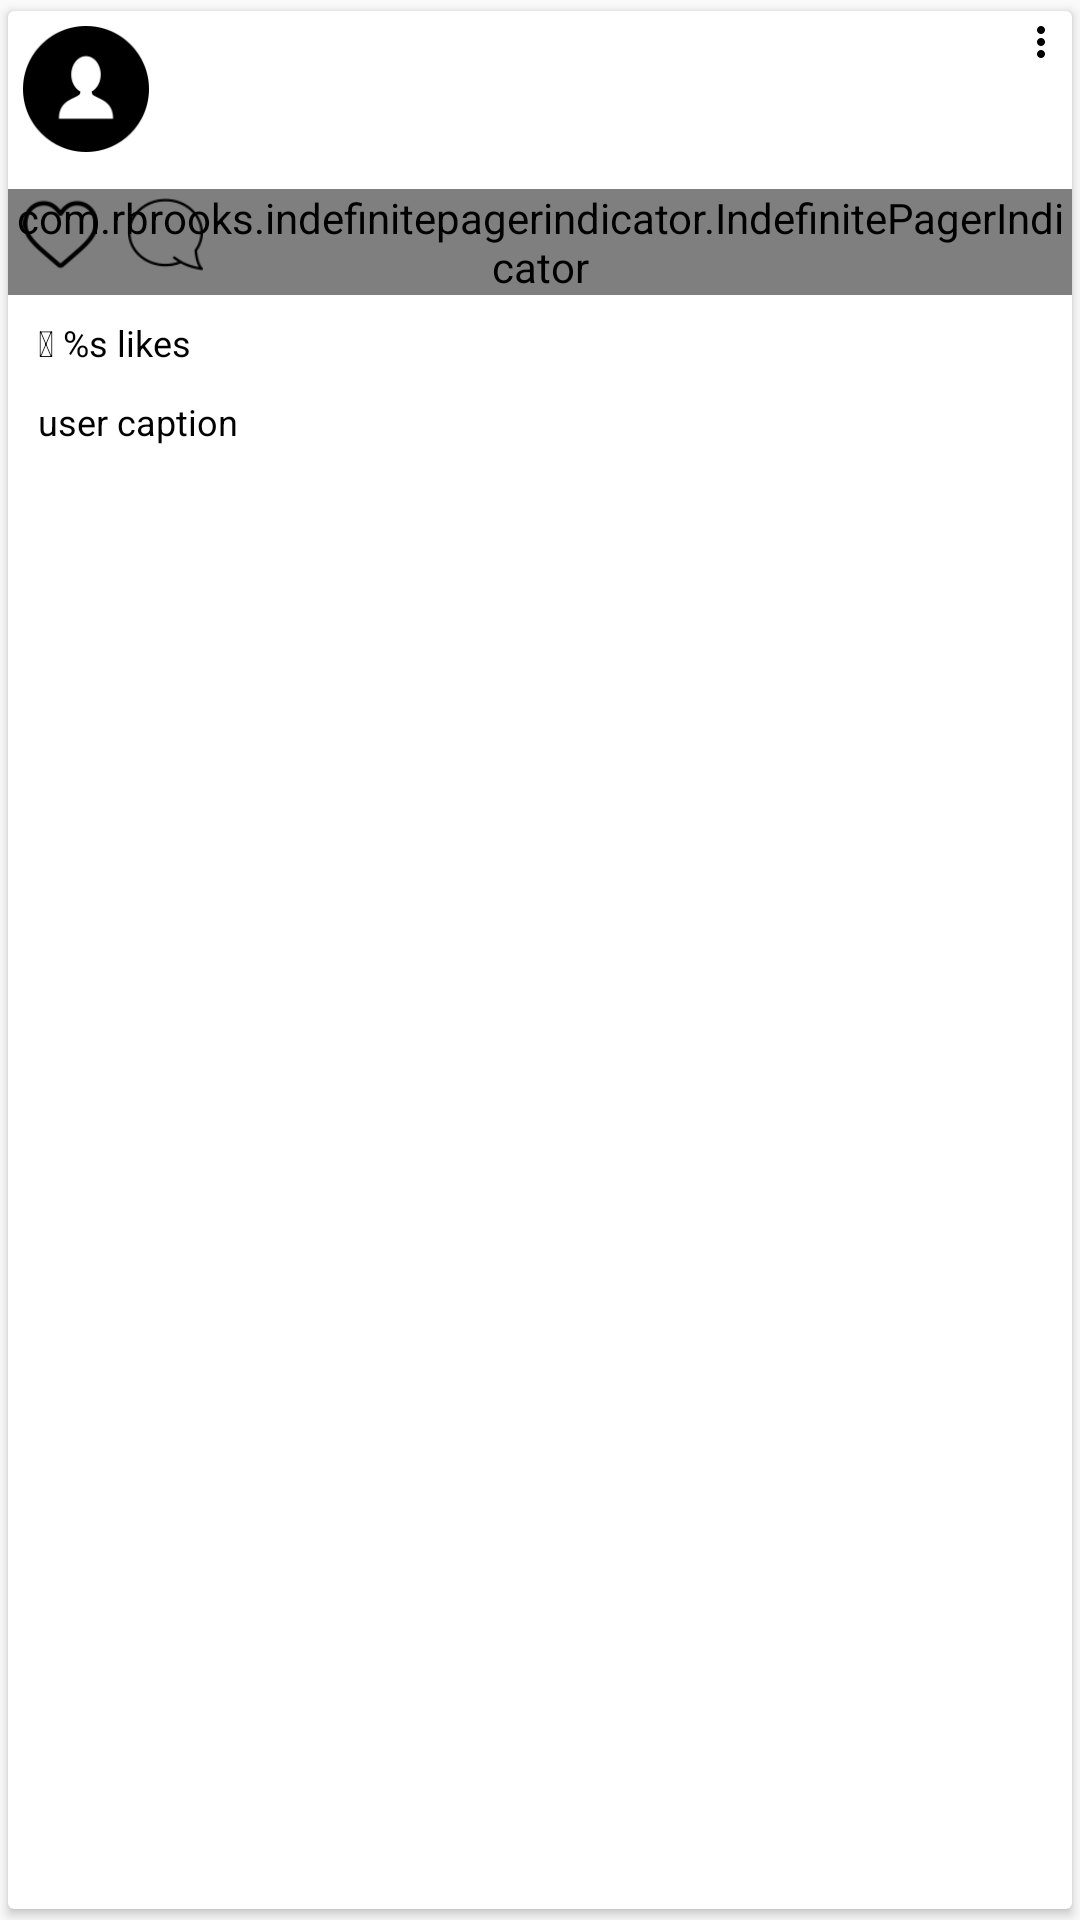

Screen size 1080×1920. Icon name, then its box in pixels as BBox(x1, y1, x2, y2):
comment: BBox(128, 198, 203, 271)
menu: BBox(1037, 26, 1045, 58)
user: BBox(23, 26, 149, 152)
